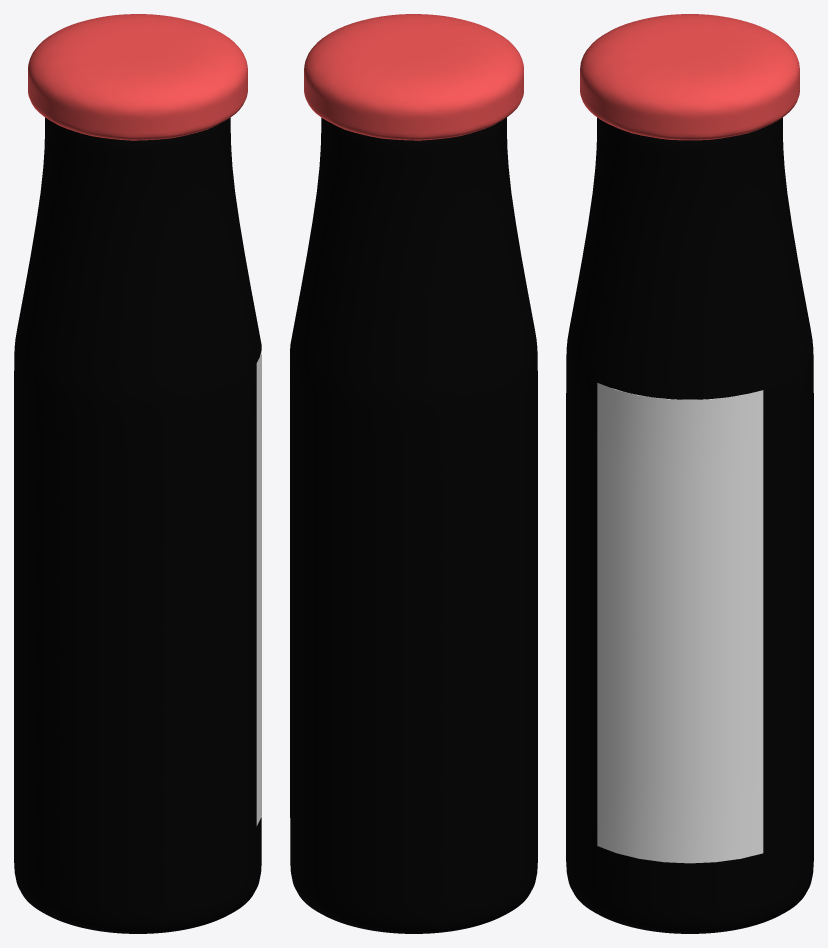
File: sauce.gltf
3 views of the same model, side by side, from view 1: azimuth 30°, elevation 25°; view 2: azimuth 150°, elevation 25°; view 3: azimuth 270°, elevation 25° (orthographic).
Visible parts, largest first — view 1: Cilindro (×2), Cilindro.1; view 2: Cilindro (×2); view 3: Cilindro (×2), Cilindro.1.
Boxes of the visible parts, left/top/right/bottom form: Cilindro (×2): left=14, top=14, right=261, bottom=933; Cilindro.1: left=256, top=353, right=261, bottom=825; Cilindro (×2): left=290, top=14, right=537, bottom=933; Cilindro (×2): left=566, top=14, right=813, bottom=933; Cilindro.1: left=597, top=383, right=763, bottom=863.
Bounding box in the file's own units: 0.9966 × 3.72 × 0.9932.
